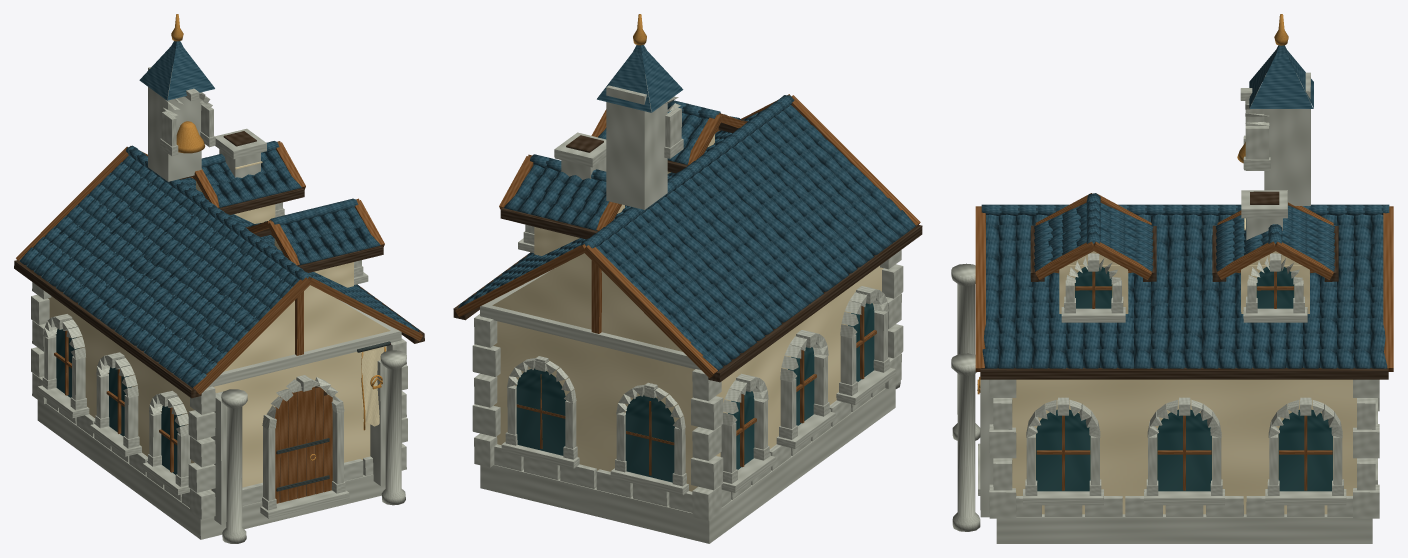
File: harbor_shrine.glb
3 views of the same model, side by side, from view 1: azimuth 30°, elevation 25°; view 2: azimuth 150°, elevation 25°; view 3: azimuth 270°, elevation 25° (orthographic). The views are drawn at different scales.
Parts seen in each view (by area): view 1: harbor_shrine_Structure, harbor_shrine_Roof, harbor_shrine_Joinery, harbor_shrine_Detail, harbor_shrine_Glazing, harbor_shrine_Metalwork, harbor_shrine_Cloth; view 2: harbor_shrine_Structure, harbor_shrine_Roof, harbor_shrine_Detail, harbor_shrine_Joinery, harbor_shrine_Glazing; view 3: harbor_shrine_Structure, harbor_shrine_Roof, harbor_shrine_Detail, harbor_shrine_Joinery, harbor_shrine_Glazing.
Boxes of the visible parts, x1,y1,x2,y2 form: harbor_shrine_Structure: (31, 66, 407, 543); harbor_shrine_Roof: (19, 41, 419, 388); harbor_shrine_Joinery: (14, 141, 424, 503); harbor_shrine_Detail: (37, 88, 368, 518); harbor_shrine_Glazing: (56, 329, 184, 474); harbor_shrine_Metalwork: (171, 14, 390, 491); harbor_shrine_Cloth: (361, 347, 386, 426); harbor_shrine_Structure: (472, 75, 903, 543); harbor_shrine_Roof: (458, 45, 915, 370); harbor_shrine_Detail: (501, 96, 895, 495); harbor_shrine_Joinery: (453, 94, 922, 475); harbor_shrine_Glazing: (516, 303, 874, 482); harbor_shrine_Structure: (951, 72, 1379, 543); harbor_shrine_Roof: (981, 45, 1389, 368); harbor_shrine_Detail: (978, 88, 1377, 505); harbor_shrine_Joinery: (975, 193, 1393, 490); harbor_shrine_Glazing: (1036, 266, 1332, 491).
Size of the model in its own units: 5.13 by 8.61 by 7.3.
3 materials, 3 textured.
